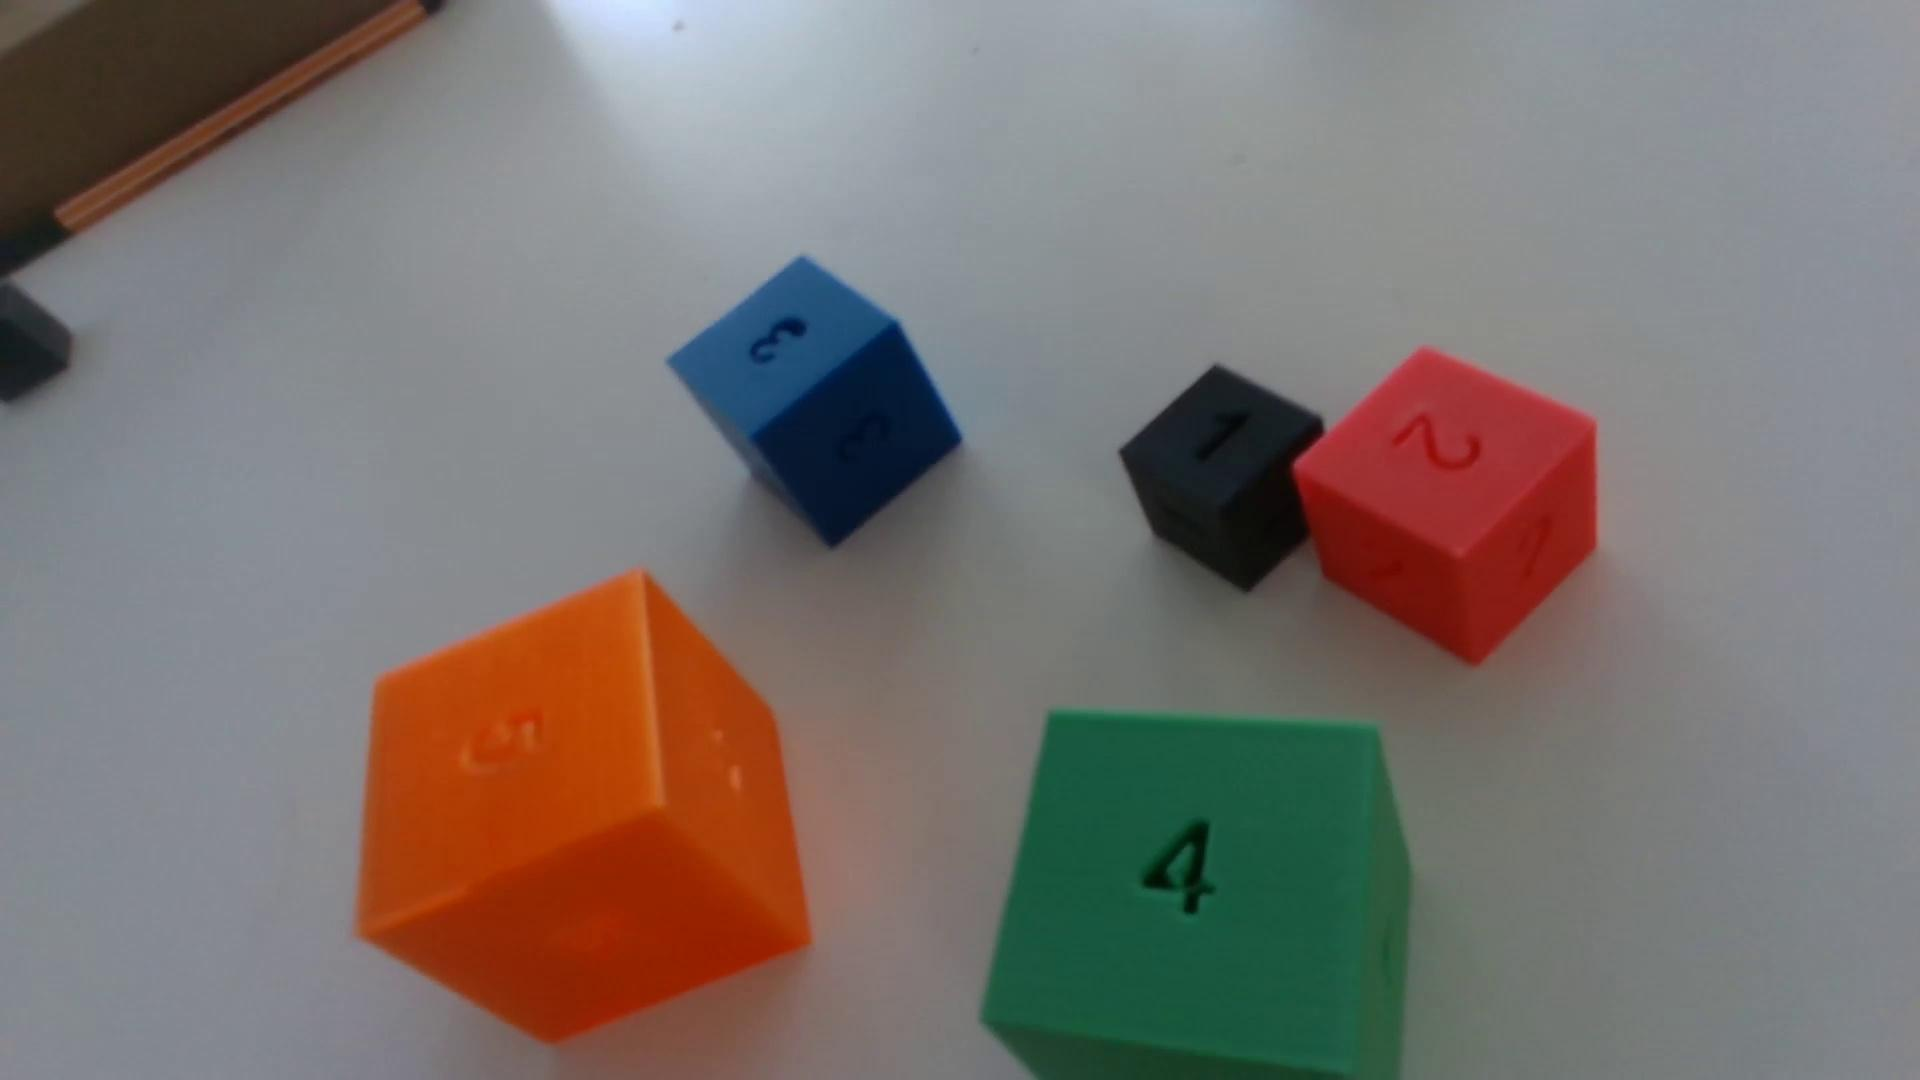black: (1118, 367, 1324, 592)
blue: (669, 258, 961, 547)
green: (982, 711, 1411, 1080)
orange: (357, 574, 810, 1043)
red: (1294, 349, 1597, 665)
